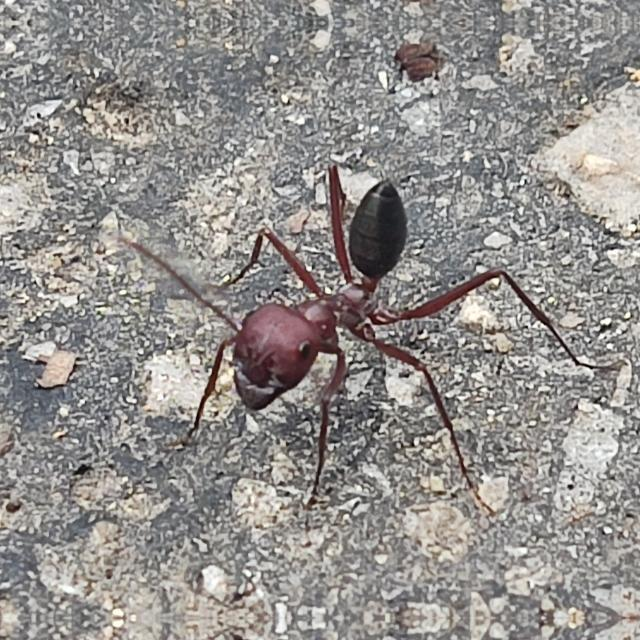Cataglyphis: (173, 142, 484, 458)
